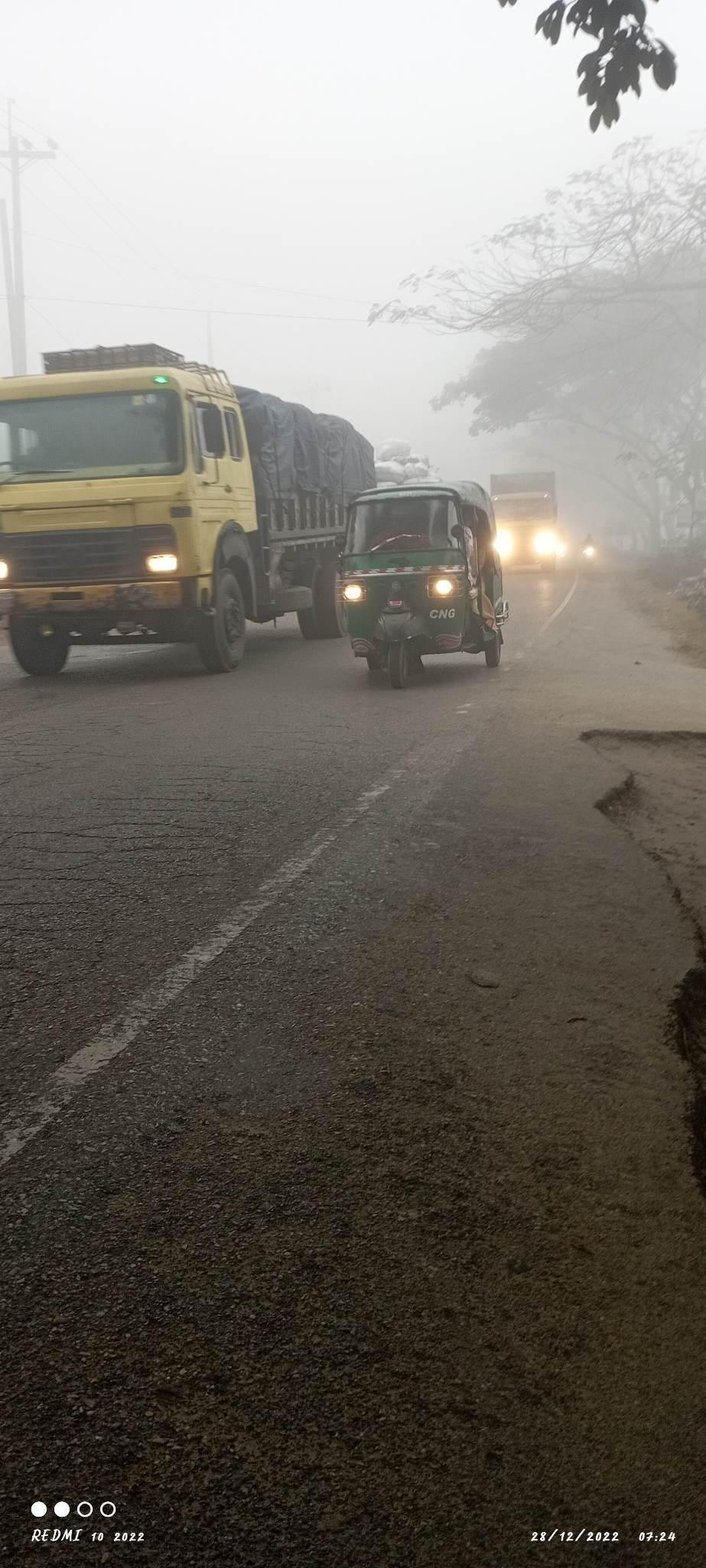Truck: (11, 334, 374, 662), (486, 452, 577, 586)
